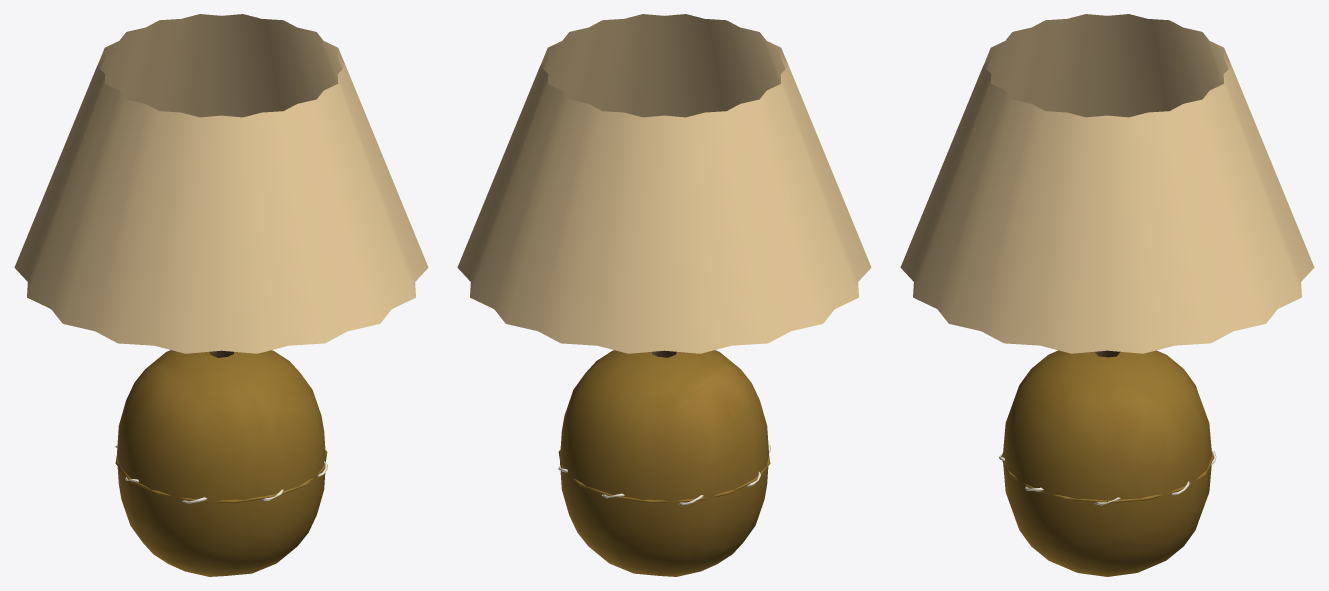
Rendered from table_lamp.glb.
3 views of the same model, side by side, from view 1: azimuth 30°, elevation 25°; view 2: azimuth 150°, elevation 25°; view 3: azimuth 270°, elevation 25° (orthographic).
Visible parts, largest first — view 1: table_lamp_paper, table_lamp_felt_mustard; view 2: table_lamp_paper, table_lamp_felt_mustard; view 3: table_lamp_paper, table_lamp_felt_mustard.
Boxes of the visible parts, bbox=[...] form: table_lamp_paper: bbox=[14, 14, 428, 353]; table_lamp_felt_mustard: bbox=[115, 350, 327, 576]; table_lamp_paper: bbox=[457, 14, 871, 353]; table_lamp_felt_mustard: bbox=[558, 350, 770, 576]; table_lamp_paper: bbox=[900, 14, 1314, 353]; table_lamp_felt_mustard: bbox=[1001, 350, 1213, 576].
Size of the model in its own units: 0.6224 by 0.84 by 0.632.
Materials: 4 (2 with a texture image).
